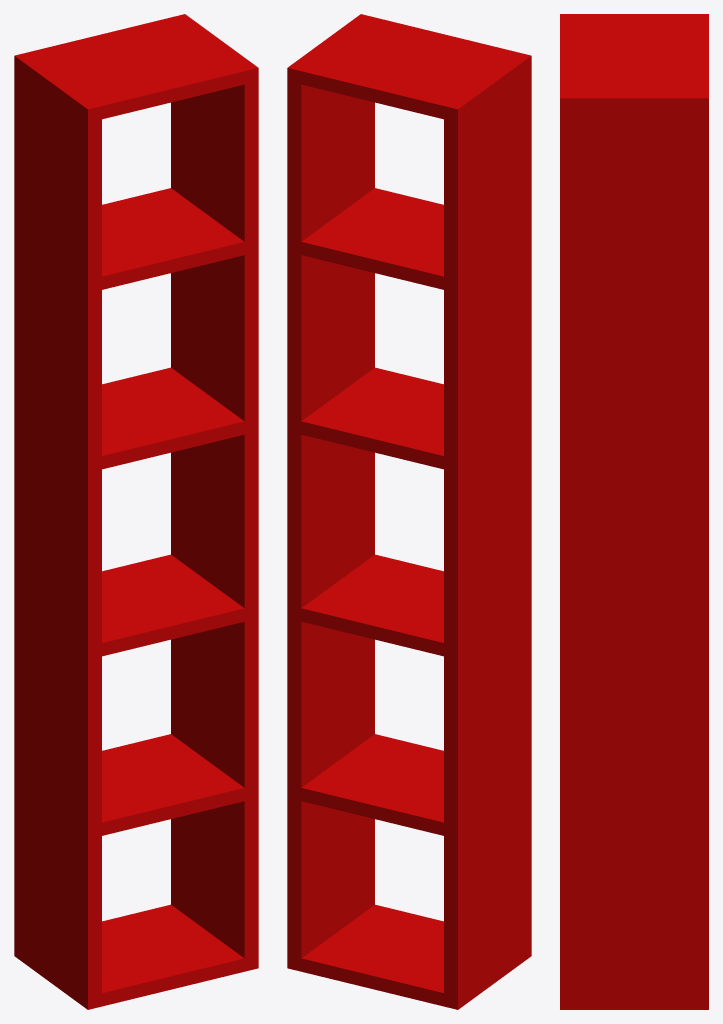
File: shelf1.fbx
3 renders of one model, left to right at view 1: azimuth 30°, elevation 25°; view 2: azimuth 150°, elevation 25°; view 3: azimuth 270°, elevation 25°, orthographic.
Visible parts, largest first — view 1: shelf_02; view 2: shelf_02; view 3: shelf_02.
Boxes of the visible parts, x1,y1,x2,y2 form: shelf_02: (14, 14, 258, 1009); shelf_02: (287, 14, 531, 1009); shelf_02: (560, 14, 708, 1009).
Bounding box in the file's own units: 80.22 × 404 × 59.86.
